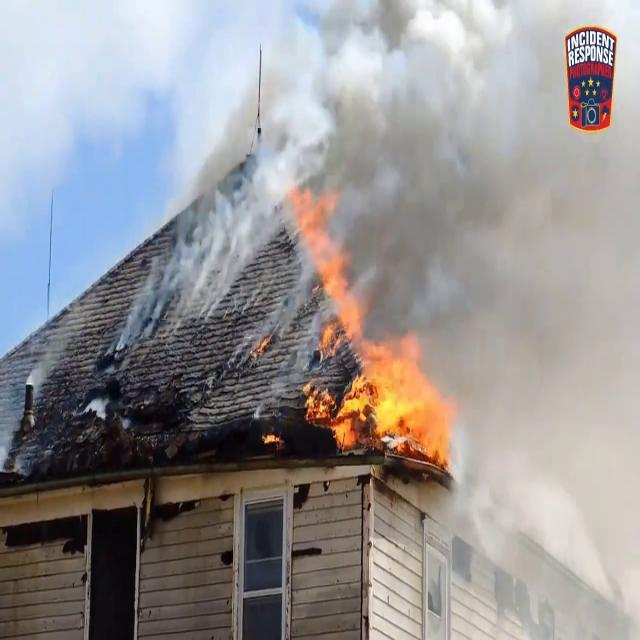Fire: (304, 334, 456, 460), (282, 188, 362, 342)
Smoke: (186, 1, 544, 323), (439, 91, 640, 638)
